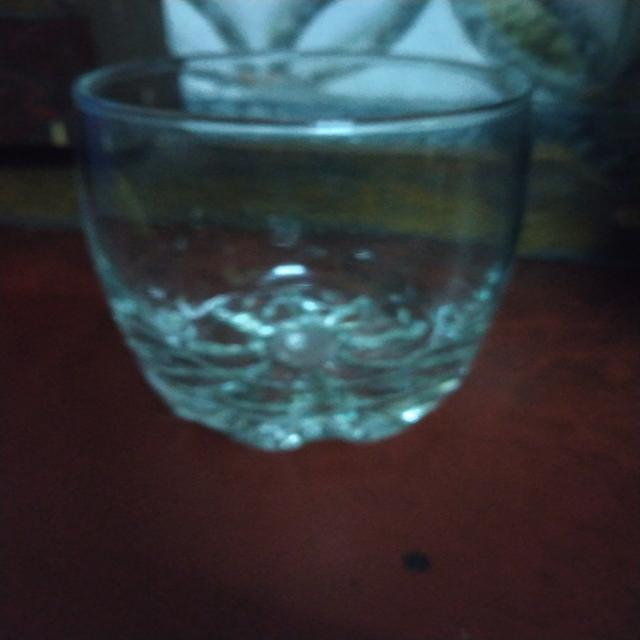Glass: (65, 45, 541, 455)
